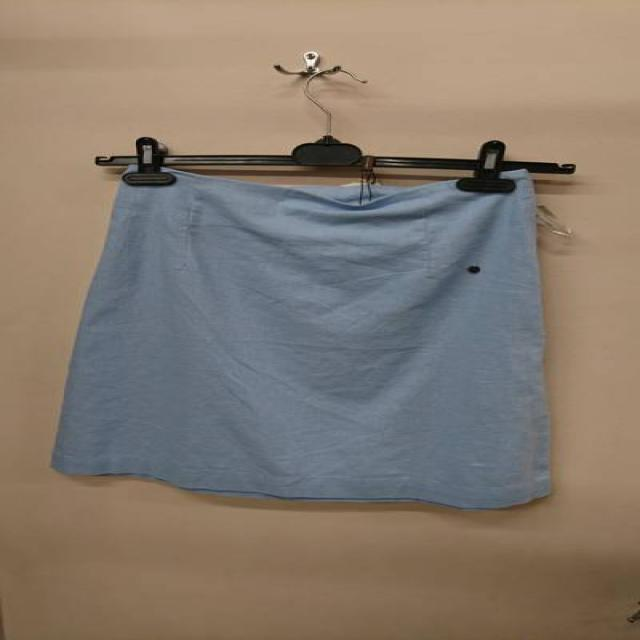skirt: (41, 148, 584, 521)
